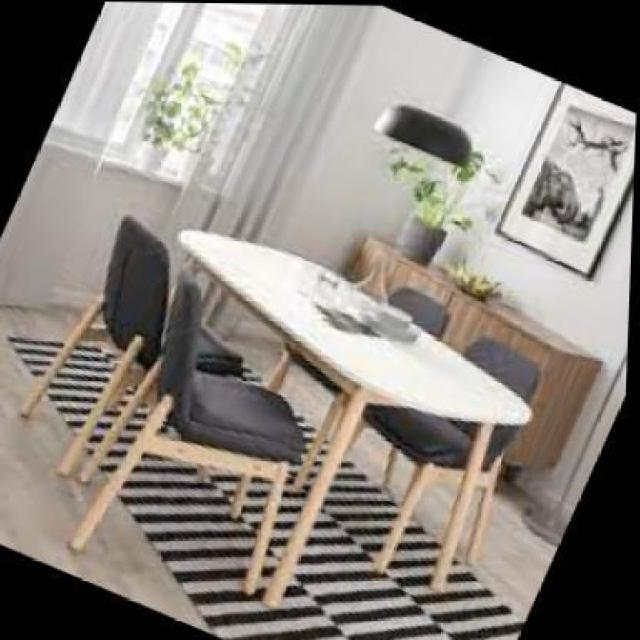tables: (175, 226, 534, 608)
